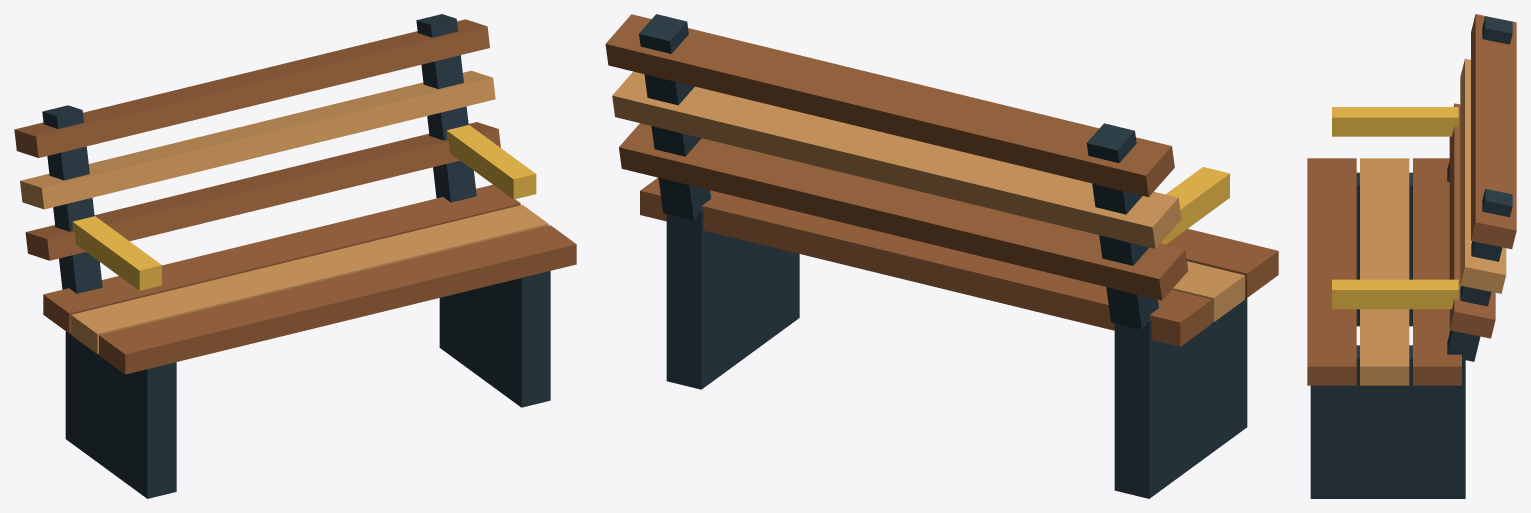
Rendered from bench.glb.
The picture shows the model from 3 angles, left to right: view 1: azimuth 30°, elevation 25°; view 2: azimuth 150°, elevation 25°; view 3: azimuth 270°, elevation 25°; orthographic projection. The views are drawn at different scales.
Visible parts, largest first — view 1: Mesh_wood, Mesh_iron, Mesh_lightWood, Mesh_gold; view 2: Mesh_wood, Mesh_iron, Mesh_lightWood, Mesh_gold; view 3: Mesh_wood, Mesh_iron, Mesh_lightWood, Mesh_gold.
Part boxes in pixels (bbox=[...]): Mesh_wood: bbox=[14, 19, 576, 374]; Mesh_iron: bbox=[42, 14, 550, 498]; Mesh_lightWood: bbox=[20, 70, 548, 353]; Mesh_gold: bbox=[72, 125, 536, 290]; Mesh_wood: bbox=[605, 14, 1278, 346]; Mesh_iron: bbox=[639, 14, 1247, 498]; Mesh_lightWood: bbox=[612, 71, 1244, 322]; Mesh_gold: bbox=[1161, 167, 1229, 244]; Mesh_wood: bbox=[1307, 14, 1516, 385]; Mesh_iron: bbox=[1310, 16, 1512, 498]; Mesh_lightWood: bbox=[1360, 58, 1506, 385]; Mesh_gold: bbox=[1332, 107, 1458, 309].
Bounding box in the file's own units: 1.4 × 0.9327 × 0.5951.
